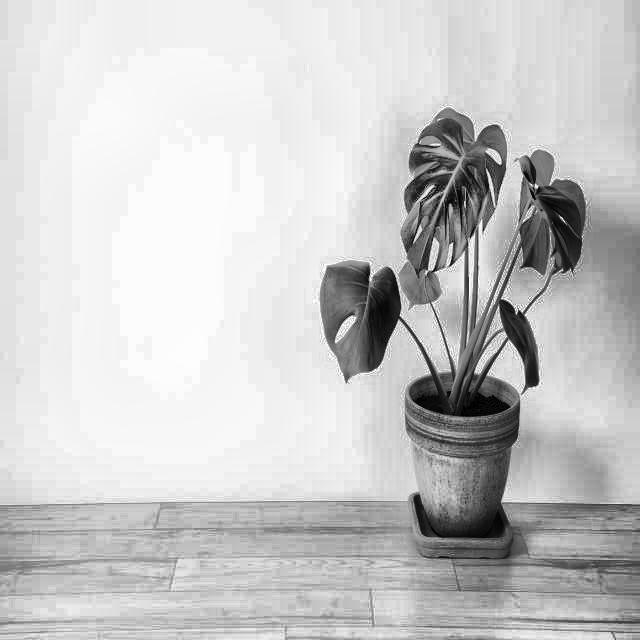plants: (317, 93, 587, 564)
